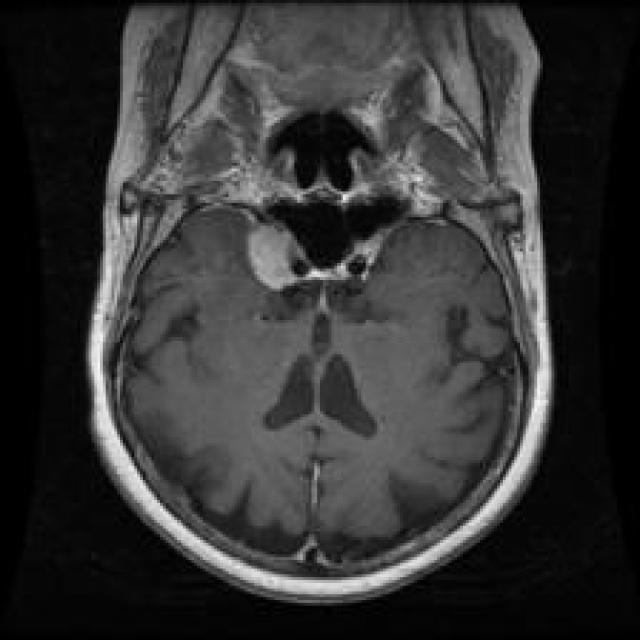meningioma_tumor: (232, 205, 322, 309)
